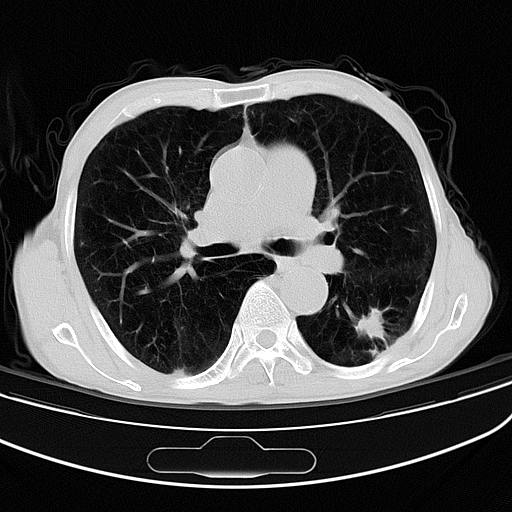nodule: (351, 307, 386, 340)
